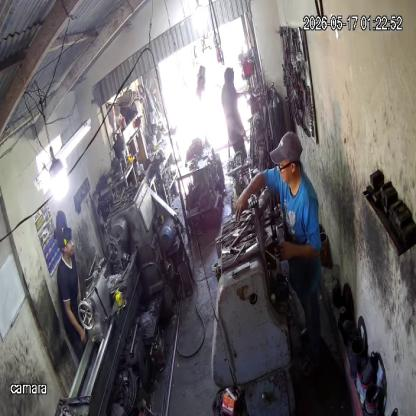lentes: (272, 160, 294, 174)
